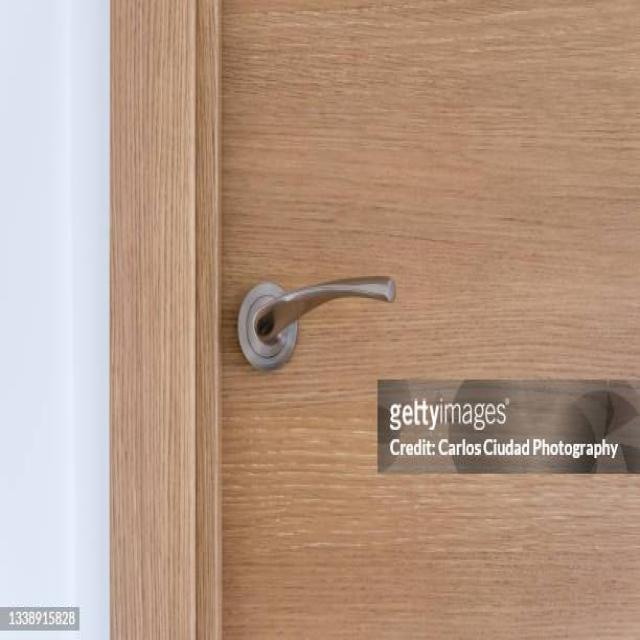door-handle: (238, 278, 395, 369)
